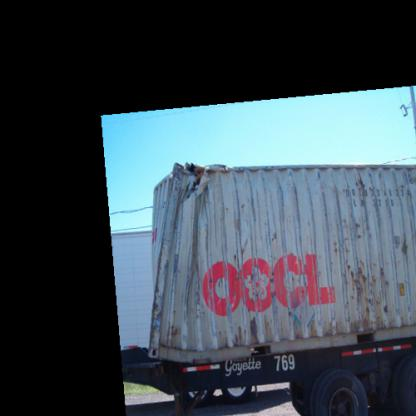Damage: (307, 165, 405, 326), (144, 300, 295, 358), (148, 161, 221, 218)
